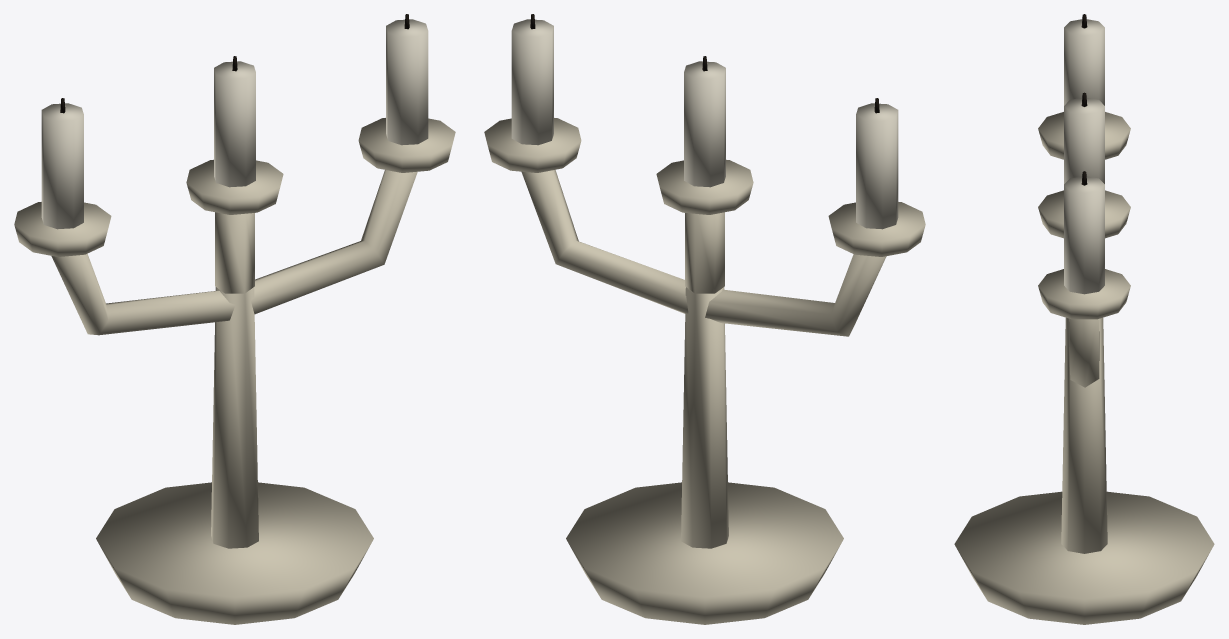
The model's file is bone_candelabra_v0.glb.
The picture shows the model from 3 angles, left to right: view 1: azimuth 30°, elevation 25°; view 2: azimuth 150°, elevation 25°; view 3: azimuth 270°, elevation 25°; orthographic projection. The views are drawn at different scales.
Visible parts, largest first — view 1: bone_candelabra_v0; view 2: bone_candelabra_v0; view 3: bone_candelabra_v0.
Boxes of the visible parts, box(x1,y1,x2,y2) form: bone_candelabra_v0: box(14, 14, 455, 624); bone_candelabra_v0: box(484, 14, 925, 624); bone_candelabra_v0: box(954, 14, 1214, 624).
Bounding box in the file's own units: 0.4951 × 0.575 × 0.28.
